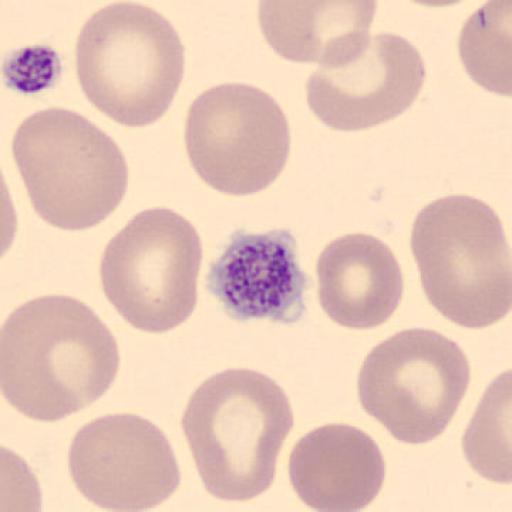Platelet: (203, 226, 310, 324), (1, 40, 67, 97)
RBC: (179, 365, 295, 502), (10, 104, 131, 234), (1, 292, 120, 422), (72, 0, 187, 131), (355, 325, 471, 448), (98, 204, 206, 336), (409, 192, 511, 331), (182, 79, 293, 199), (304, 28, 428, 133), (67, 411, 182, 511), (286, 420, 388, 512), (313, 231, 405, 332), (255, 0, 378, 66), (461, 365, 512, 487), (456, 0, 512, 99), (1, 443, 43, 512), (1, 174, 19, 260), (389, 0, 485, 8)
